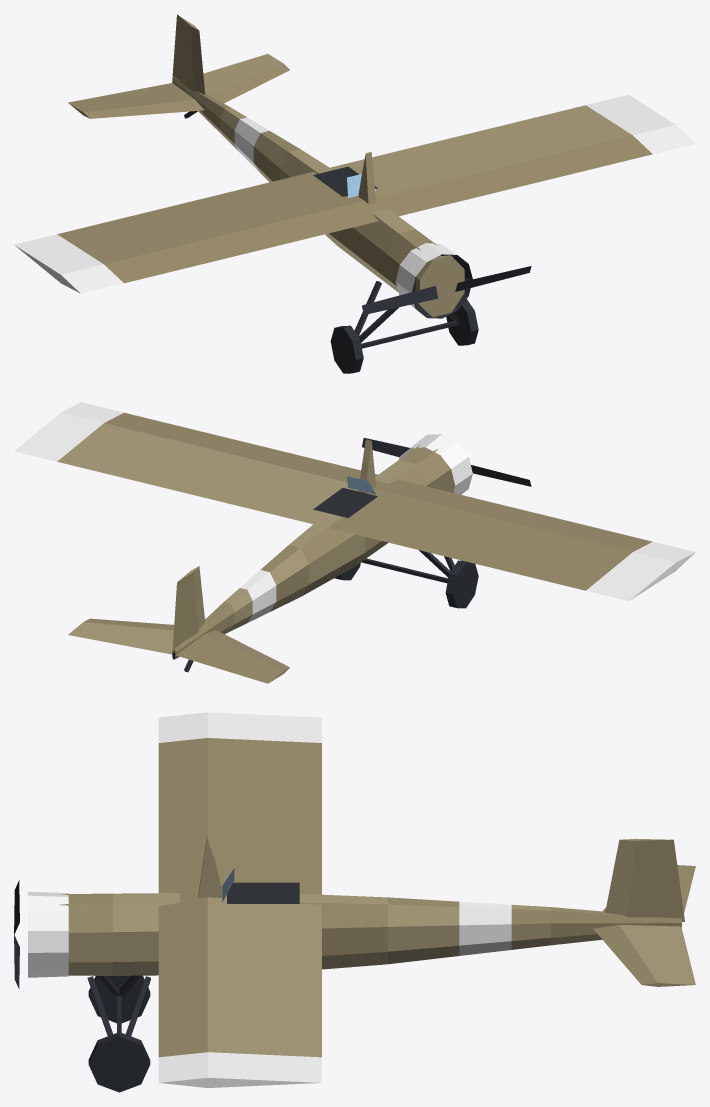
Rendered from fokker_e3_lod.glb.
3 renders of one model, top to bottom at view 1: azimuth 30°, elevation 25°; view 2: azimuth 150°, elevation 25°; view 3: azimuth 270°, elevation 25°, orthographic. The views are drawn at different scales.
Parts seen in each view (by area): view 1: body, prop; view 2: body, prop; view 3: body.
Boxes of the visible parts, x1,y1,x2,y2 form: body: (14,14,695,373); prop: (362,266,531,314); body: (14,402,695,683); prop: (362,438,531,486); body: (28,712,695,1092).
Bounding box in the file's own units: 9.52 × 2.66 × 7.51.
